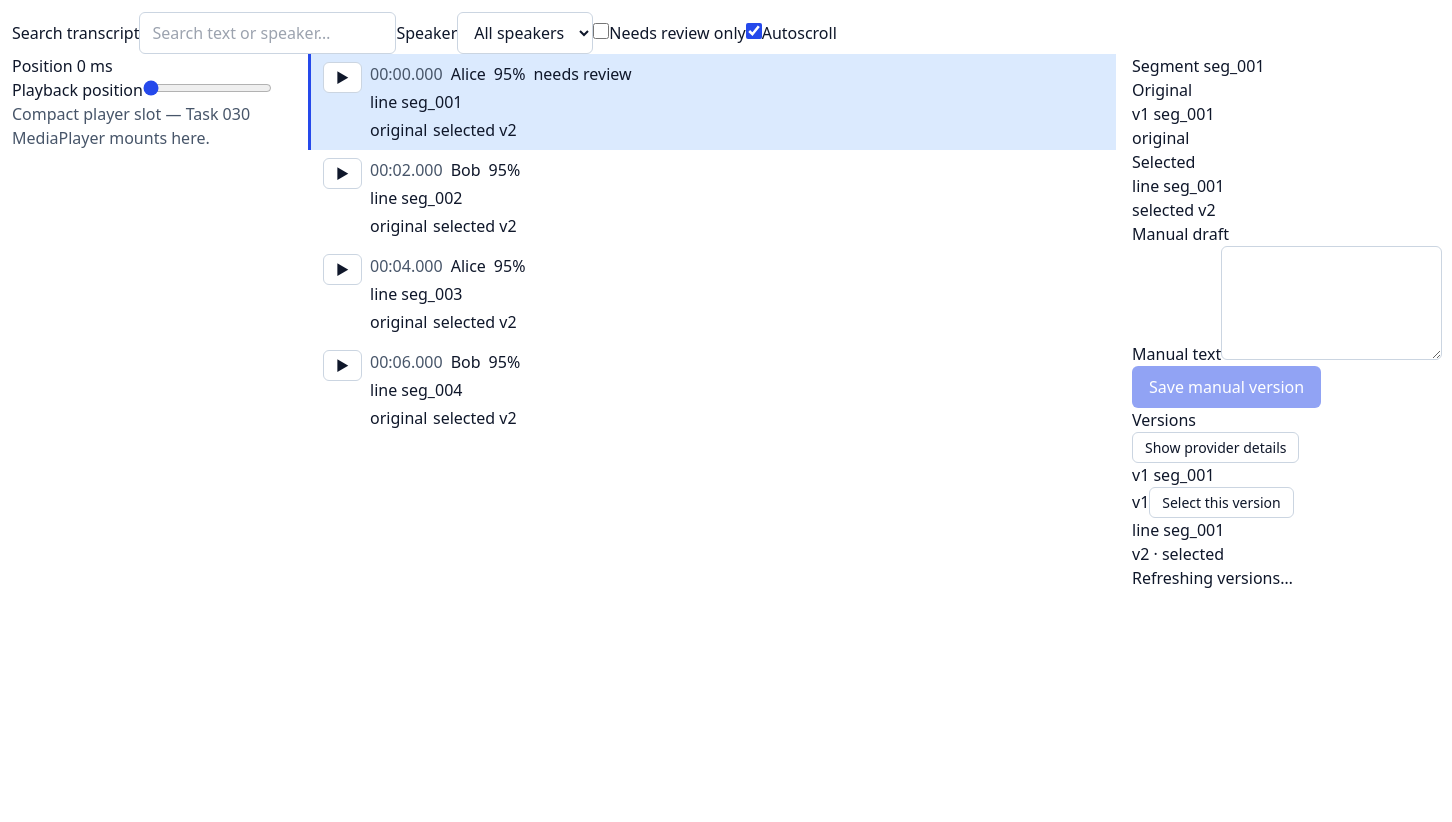
Test: TranscriptEditor shell states › warns on stale versions while keeping drafts (recovery: refresh)
This screenshot has width=1452, height=822.
Expected: the element with test id "transcript-pane-list" is shown, [308,54,1116,438]
Click the button with test id "transcript-select-version-seg_001-v1".
click(1222, 502)  # box [1149,487,1294,518]
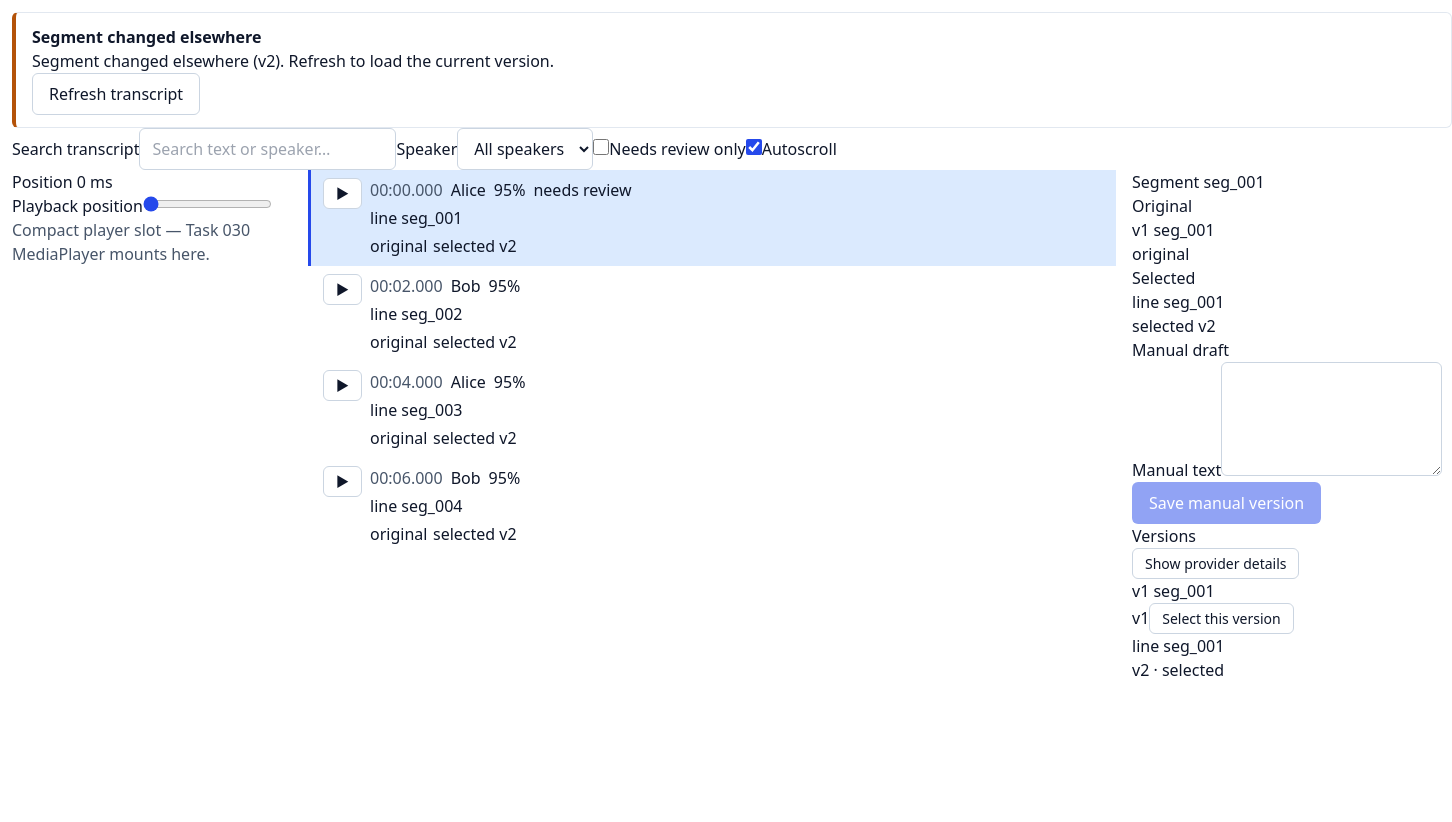
Expected: the element with test id "transcript-stale-banner" is shown, [12,12,1451,128]
Click the button with test id "transcript-stale-refresh".
click(116, 94)  # box [32,73,200,115]
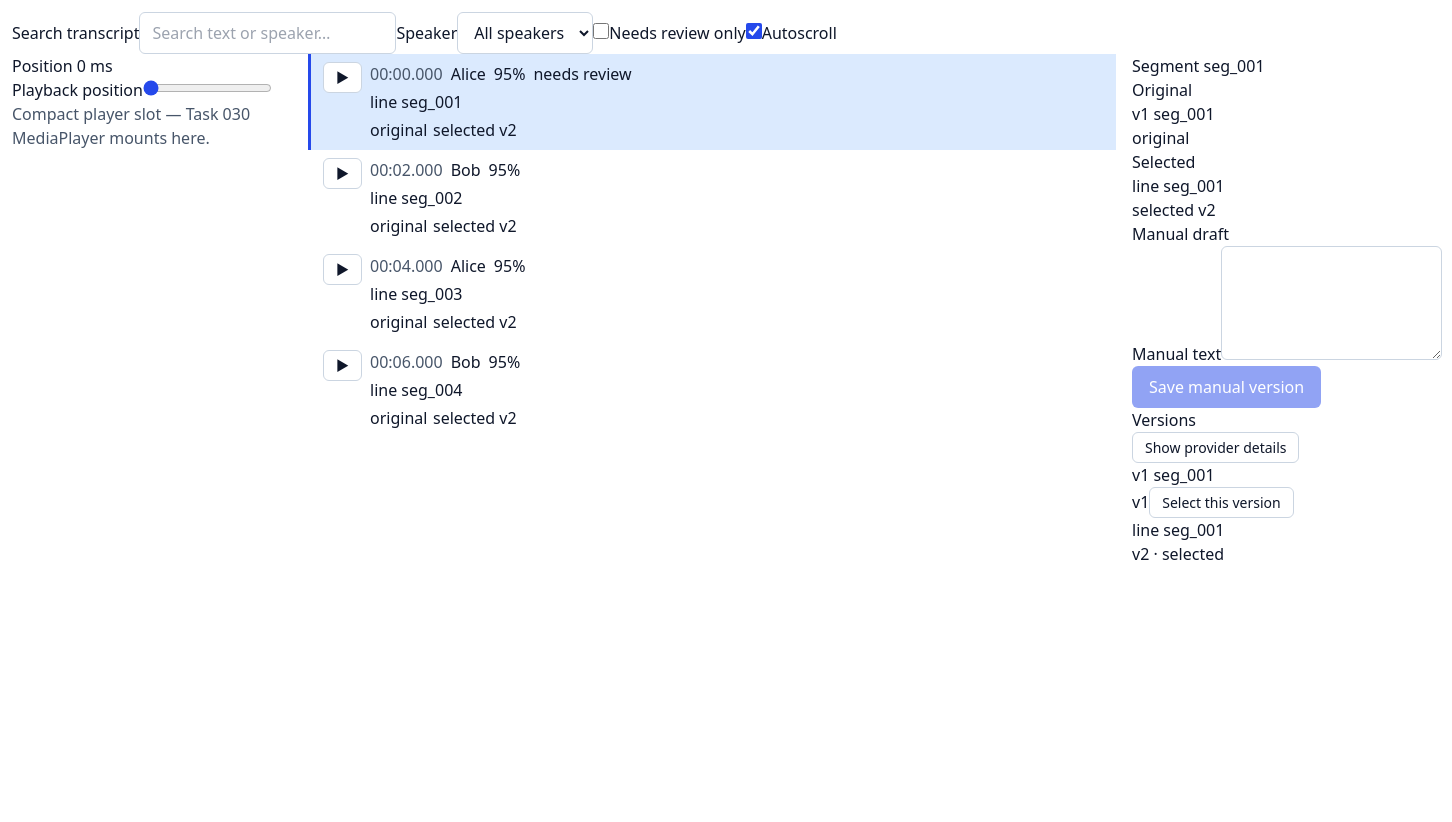
Expected: the element with test id "transcript-stale-banner" is gone
